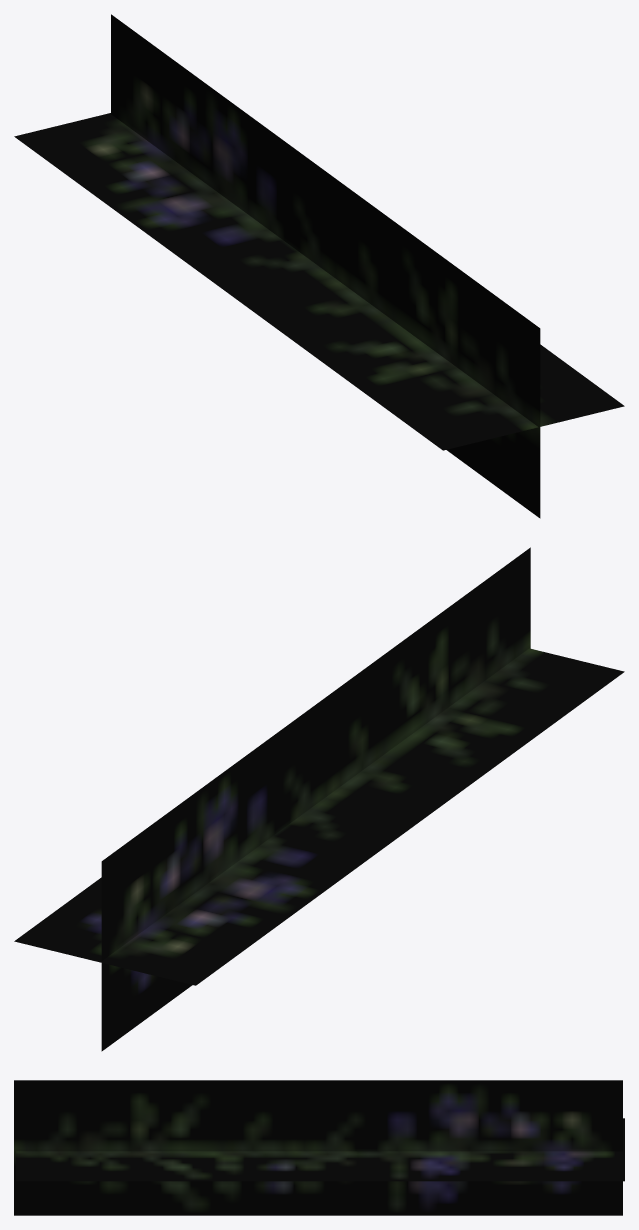
Rendered from SM_EC_Plant_Card_Cross_14.fbx.
3 views of the same model, one above another, from view 1: azimuth 30°, elevation 25°; view 2: azimuth 150°, elevation 25°; view 3: azimuth 270°, elevation 25° (orthographic). The views are drawn at different scales.
Visible parts, largest first — view 1: SM_EC_Plant_Card_Cross_14; view 2: SM_EC_Plant_Card_Cross_14; view 3: SM_EC_Plant_Card_Cross_14.
Part boxes in pixels (x1,y1,x2,y2): SM_EC_Plant_Card_Cross_14: [14, 14, 624, 518]; SM_EC_Plant_Card_Cross_14: [14, 547, 624, 1051]; SM_EC_Plant_Card_Cross_14: [14, 1080, 624, 1215].
Bounding box in the file's own units: 0.2261 × 0.927 × 0.2261.
